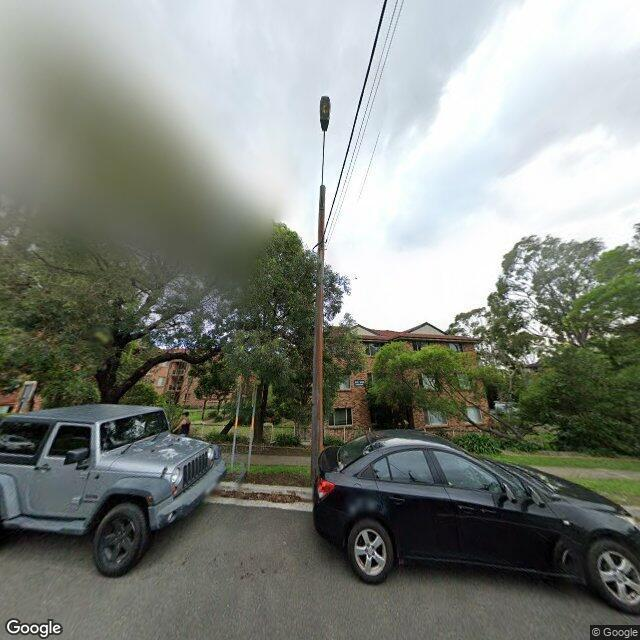streetlight: (319, 95, 331, 210)
timber-pole: (311, 184, 327, 482)
